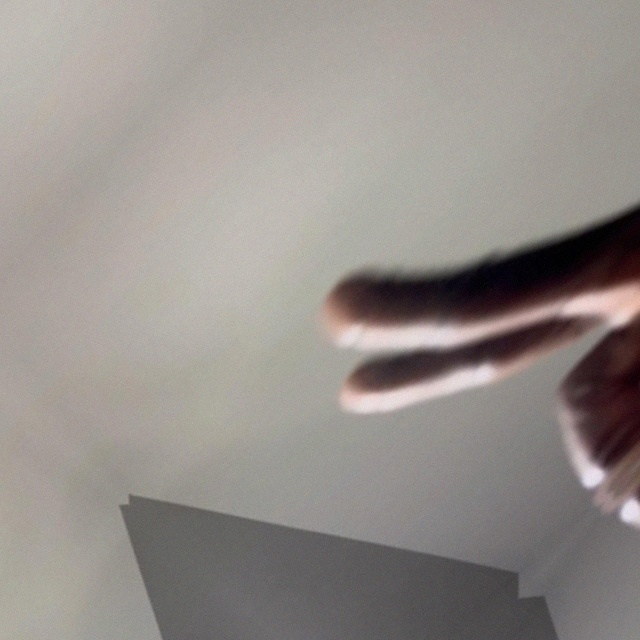Scissors: (0, 0, 293, 53)
